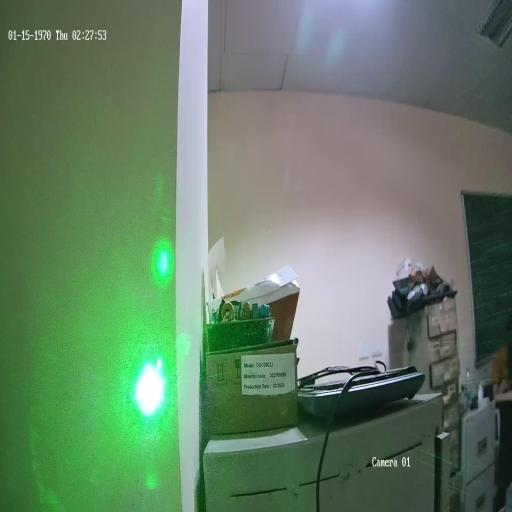laser: (128, 337, 170, 425)
